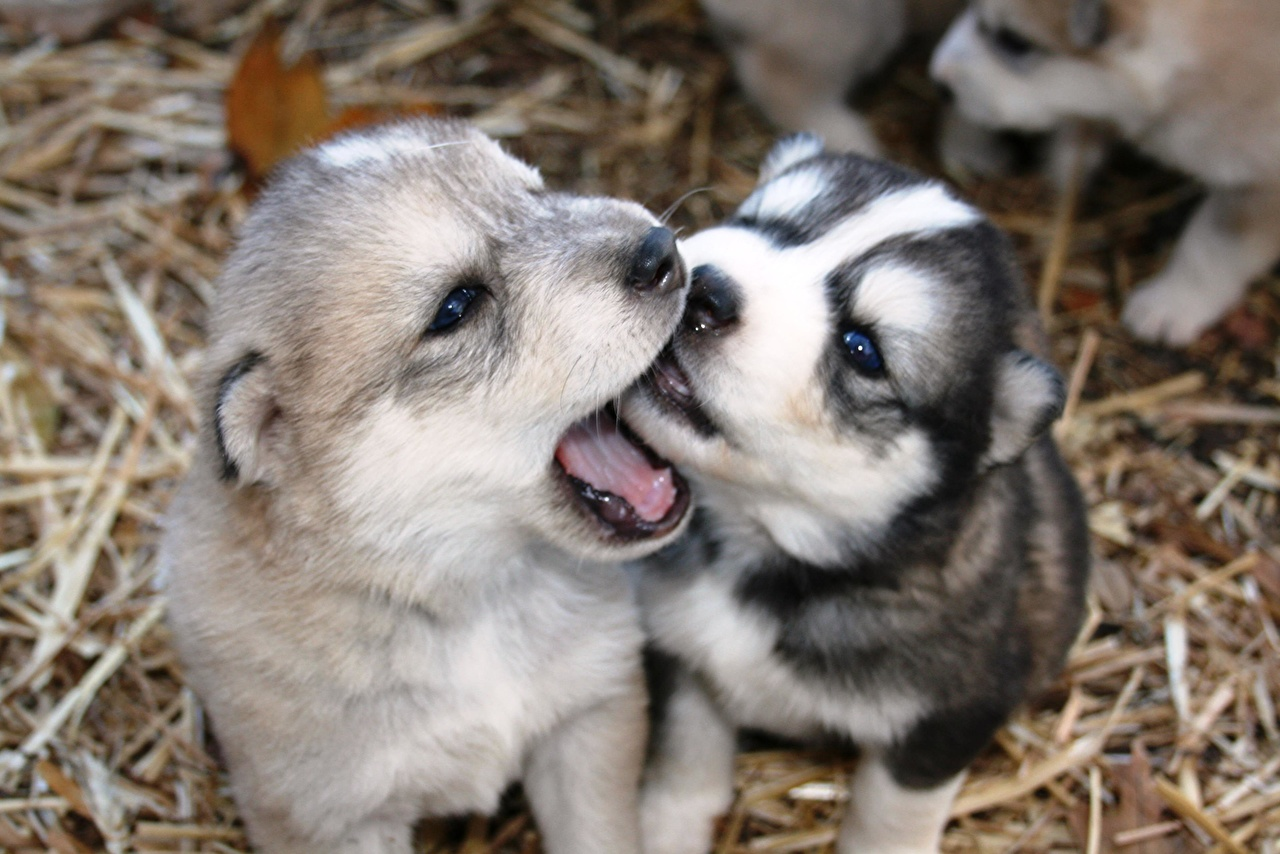husky: (225, 111, 711, 610), (583, 102, 1089, 501)
